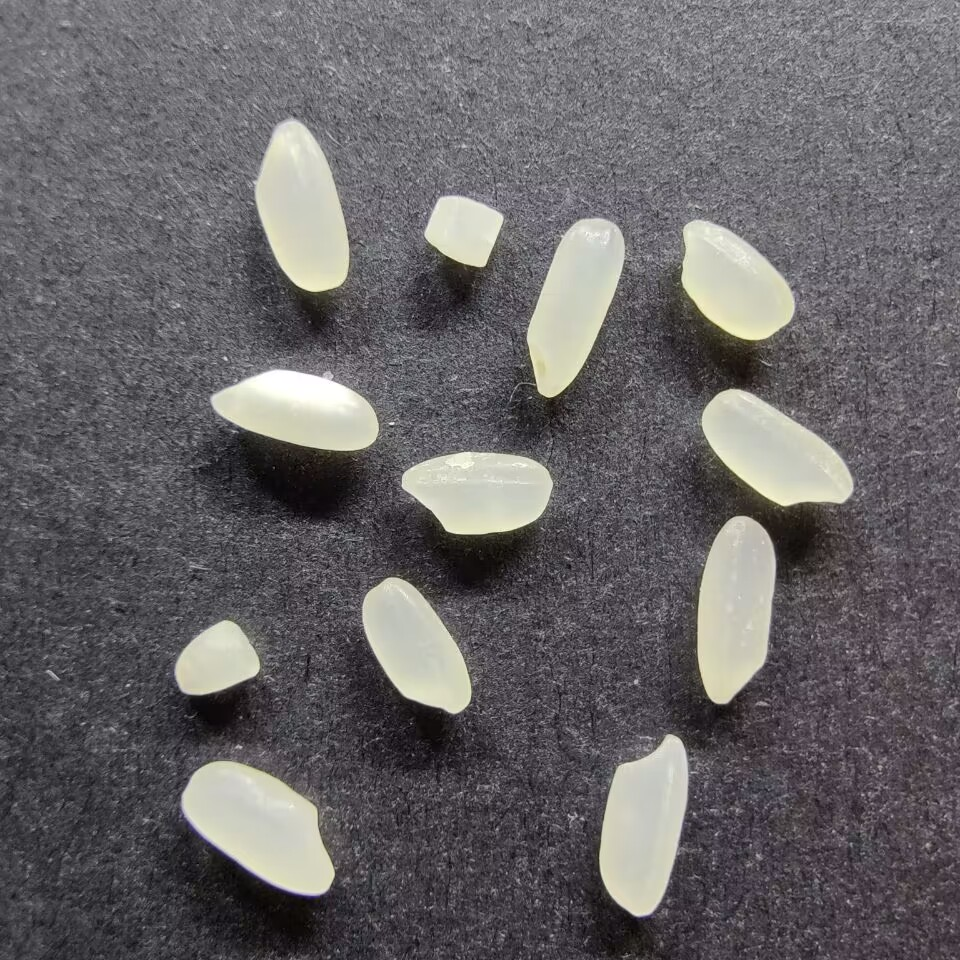broken: (173, 618, 262, 696), (422, 192, 505, 270)
rice: (179, 757, 336, 898), (523, 215, 627, 400), (699, 386, 854, 510), (251, 117, 352, 292), (596, 732, 689, 918), (359, 575, 473, 716), (694, 513, 776, 706), (208, 367, 380, 452), (678, 218, 796, 341), (398, 449, 552, 536)
